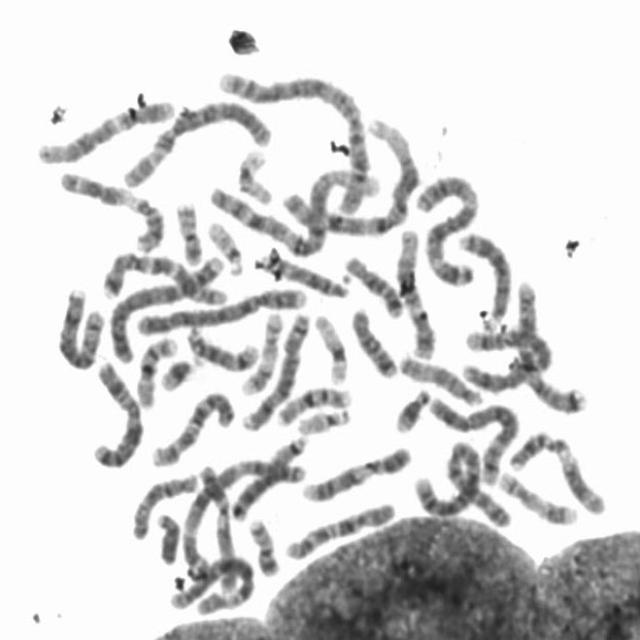A1: (283, 115, 422, 239), (207, 166, 389, 256)
A2: (216, 63, 378, 215), (410, 436, 484, 518)
A3: (178, 444, 309, 602), (418, 168, 483, 288)
B4: (105, 246, 230, 366), (132, 281, 309, 338)
B5: (424, 392, 524, 479), (460, 321, 548, 394)
C10: (280, 495, 399, 562), (146, 386, 238, 470)
C11: (55, 165, 169, 255), (505, 424, 611, 516)
C12: (29, 92, 175, 166), (392, 224, 438, 360)
C6: (120, 92, 277, 189), (168, 549, 258, 617)
C7: (518, 277, 590, 418), (97, 246, 230, 308)
C8: (238, 307, 312, 433), (52, 281, 106, 371)
C9: (299, 441, 415, 504), (200, 463, 243, 600)
D13: (225, 427, 311, 524), (454, 227, 516, 329)
D14: (256, 245, 352, 300), (181, 321, 261, 373)
D15: (129, 468, 201, 542), (394, 349, 484, 406)
E16: (273, 380, 355, 427), (134, 330, 180, 410)
E17: (495, 465, 581, 527), (237, 307, 286, 396)
E18: (340, 249, 405, 319), (346, 302, 400, 380)
F19: (310, 309, 350, 385), (232, 143, 276, 206)
F20: (171, 196, 205, 266), (245, 513, 282, 577)
G21: (390, 382, 433, 435), (156, 351, 200, 393)
G22: (203, 215, 246, 277), (292, 402, 353, 436)
X: (89, 356, 146, 470)
Y: (152, 507, 182, 566)
